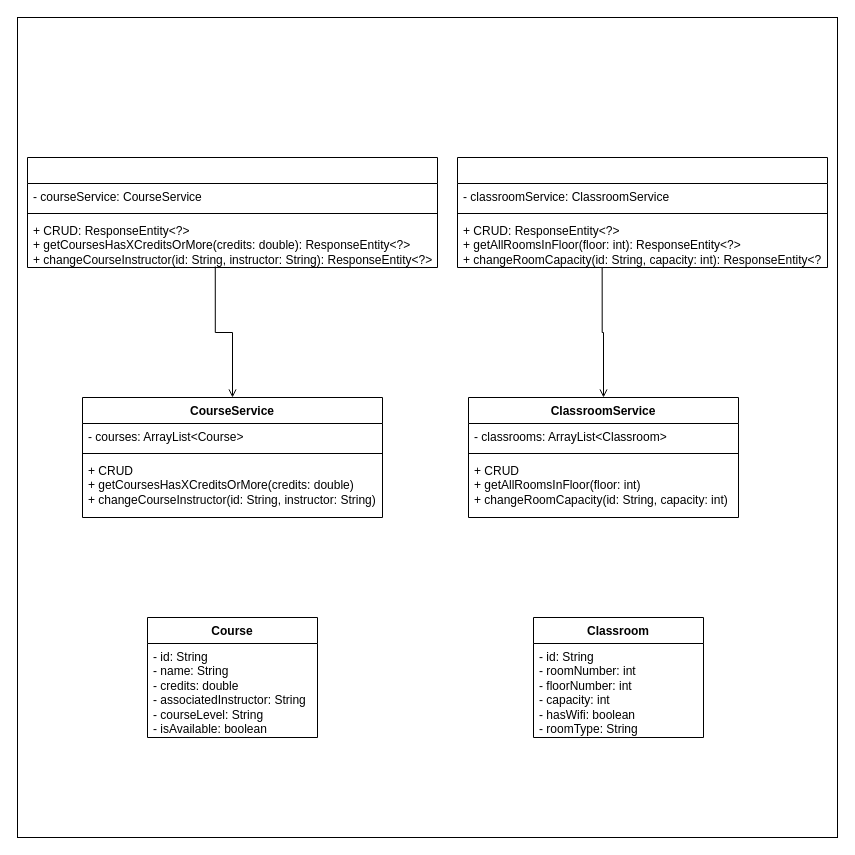
Image size: 855x855. Some labels were removed from this diagram. Each missing label, with the box of its shape:
ClassroomController: (456, 156, 828, 268)
CourseController: (26, 156, 438, 268)
